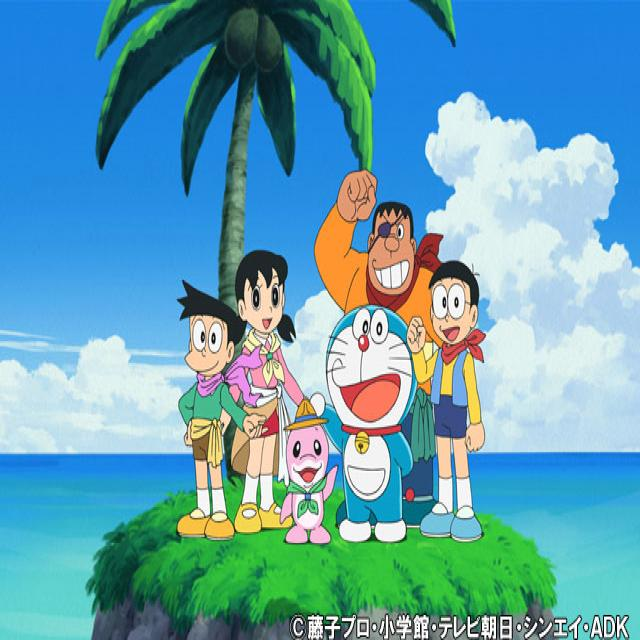doraemon: (317, 299, 421, 471)
jaian: (352, 178, 430, 320)
nobita: (420, 252, 488, 377)
shizuka: (232, 231, 304, 371)
suneo: (170, 252, 242, 415)
